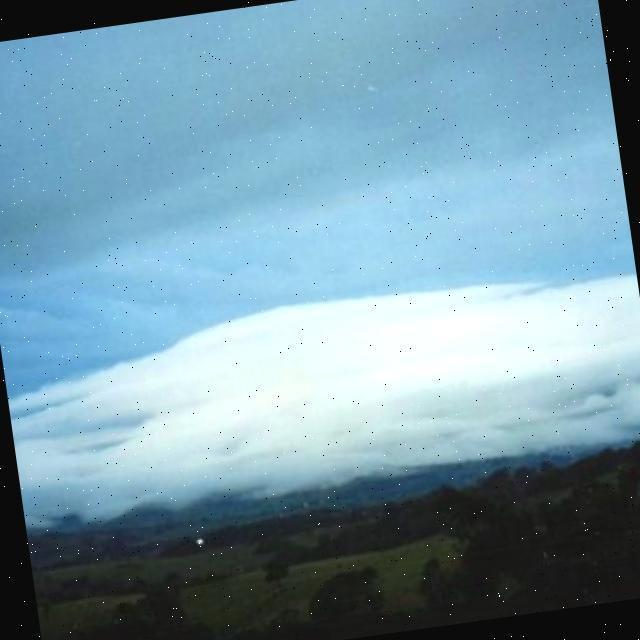Ns: (1, 58, 640, 510)
